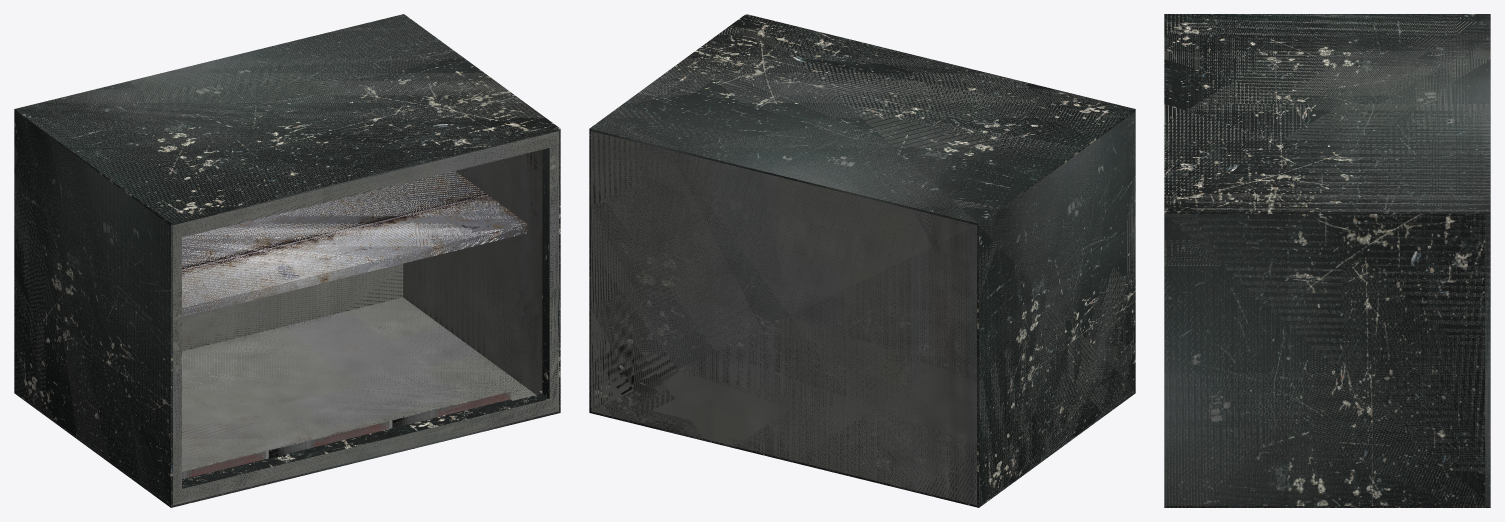
File: frame.dae
3 renders of one model, left to right at view 1: azimuth 30°, elevation 25°; view 2: azimuth 150°, elevation 25°; view 3: azimuth 270°, elevation 25°, orthographic. The views are drawn at different scales.
Parts seen in each view (by area): view 1: Group7/mesh9/mesh9-geometry#mesh9-geometry, Group2/mesh1/mesh1-geometry/material_0#mesh1-geometry, Group6/mesh8/mesh8-geometry/material_2#mesh8-geometry, mesh98/mesh98-geometry#mesh98-geometry, Group3/mesh3/mesh3-geometry/material_2#mesh3-geometry, Group4/mesh4/mesh4-geometry/material_1#mesh4-geometry, Group5/mesh6/mesh6-geometry/material_1#mesh6-geometry, Group4/mesh4/mesh4-geometry/material_2#mesh4-geometry, Group4/mesh4/mesh4-geometry/material_0/component_0#mesh4-geo, Group6/mesh8/mesh8-geometry/material_0#mesh8-geometry; view 2: Group5/mesh6/mesh6-geometry/material_2#mesh6-geometry, Group7/mesh9/mesh9-geometry#mesh9-geometry, Group2/mesh1/mesh1-geometry/material_0#mesh1-geometry, Group6/mesh8/mesh8-geometry/material_0#mesh8-geometry; view 3: Group3/mesh3/mesh3-geometry/material_0#mesh3-geometry, Group7/mesh9/mesh9-geometry#mesh9-geometry, Group6/mesh8/mesh8-geometry/material_0#mesh8-geometry.
Part boxes in pixels (x1,y1,x2,y2): Group7/mesh9/mesh9-geometry#mesh9-geometry: (14,14,560,225); Group2/mesh1/mesh1-geometry/material_0#mesh1-geometry: (14,111,172,505); Group6/mesh8/mesh8-geometry/material_2#mesh8-geometry: (182,297,535,470); mesh98/mesh98-geometry#mesh98-geometry: (182,171,527,317); Group3/mesh3/mesh3-geometry/material_2#mesh3-geometry: (403,150,542,394); Group4/mesh4/mesh4-geometry/material_1#mesh4-geometry: (173,131,558,505); Group5/mesh6/mesh6-geometry/material_1#mesh6-geometry: (182,263,403,351); Group4/mesh4/mesh4-geometry/material_2#mesh4-geometry: (182,148,549,488); Group4/mesh4/mesh4-geometry/material_0/component_0#mesh4-geo: (182,391,510,479); Group6/mesh8/mesh8-geometry/material_0#mesh8-geometry: (14,391,560,507); Group5/mesh6/mesh6-geometry/material_2#mesh6-geometry: (591,131,976,505); Group7/mesh9/mesh9-geometry#mesh9-geometry: (589,14,1135,225); Group2/mesh1/mesh1-geometry/material_0#mesh1-geometry: (977,111,1135,505); Group6/mesh8/mesh8-geometry/material_0#mesh8-geometry: (589,391,1135,507); Group3/mesh3/mesh3-geometry/material_0#mesh3-geometry: (1164,214,1490,505); Group7/mesh9/mesh9-geometry#mesh9-geometry: (1164,14,1490,213); Group6/mesh8/mesh8-geometry/material_0#mesh8-geometry: (1164,506,1490,507).
Bounding box in the file's own units: 1.36 × 0.9506 × 0.9506.
31 materials, 30 textured.
